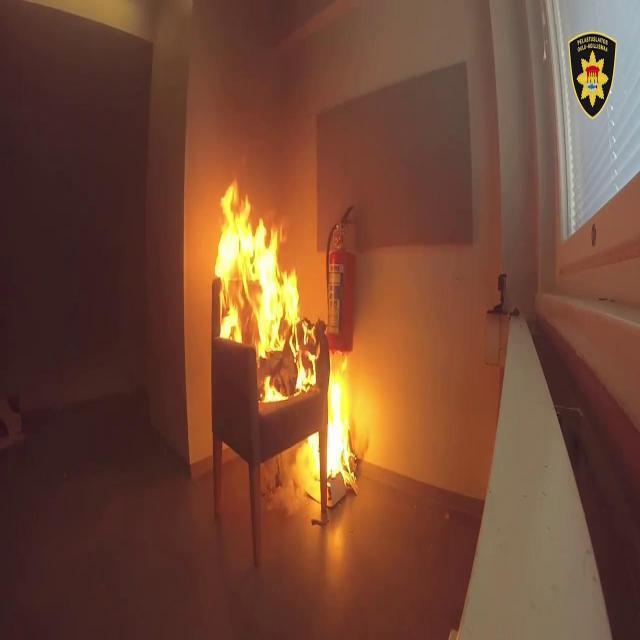Fire: (208, 180, 314, 397), (297, 359, 368, 502)
